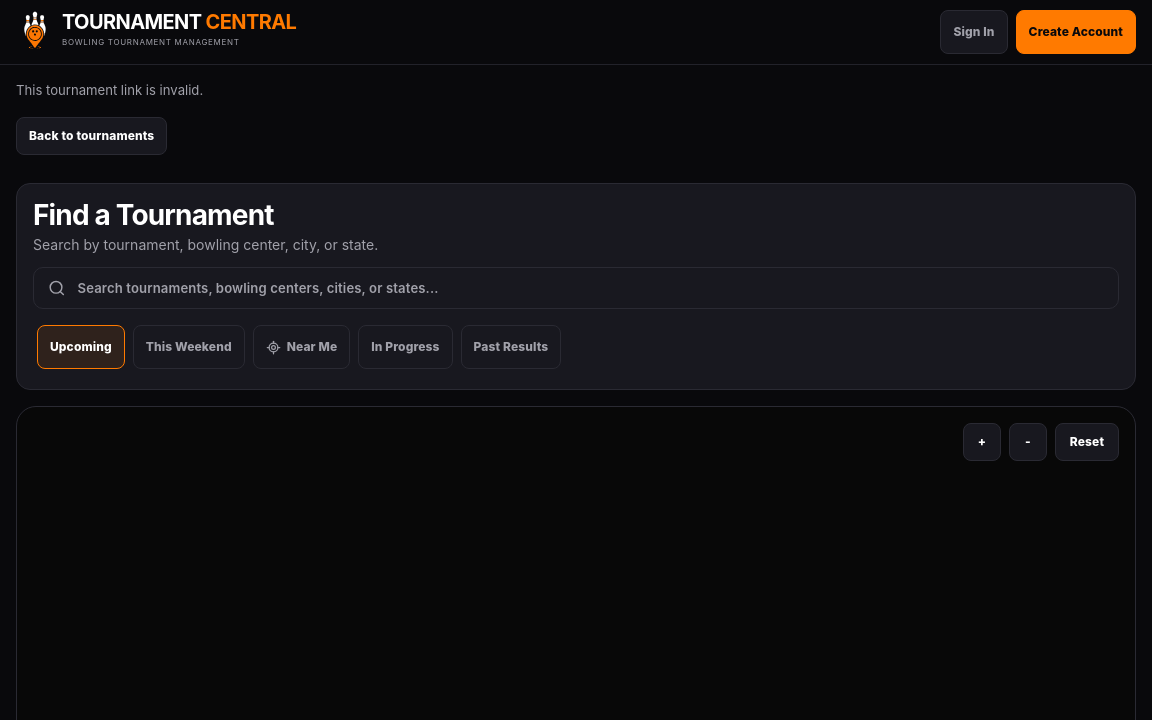
public tournament discovery › explains an unavailable shared tournament (bad-id)
Expected: the message reads "This tournament link is invalid.", [16,82,203,98]
What coordinates should you click on to do the following:
click the button "Back to tournaments"
I would click on:
 (92, 136)
Its box is [16,117,167,155].
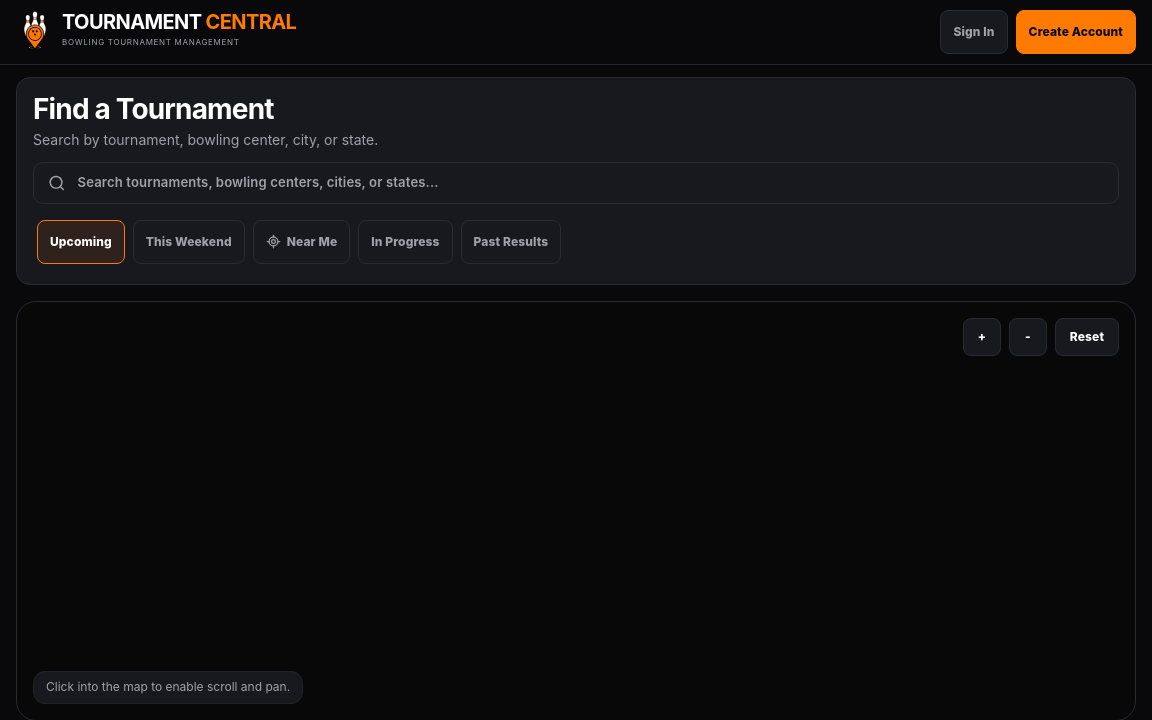
Expected: the message "This tournament link is invalid." is gone
